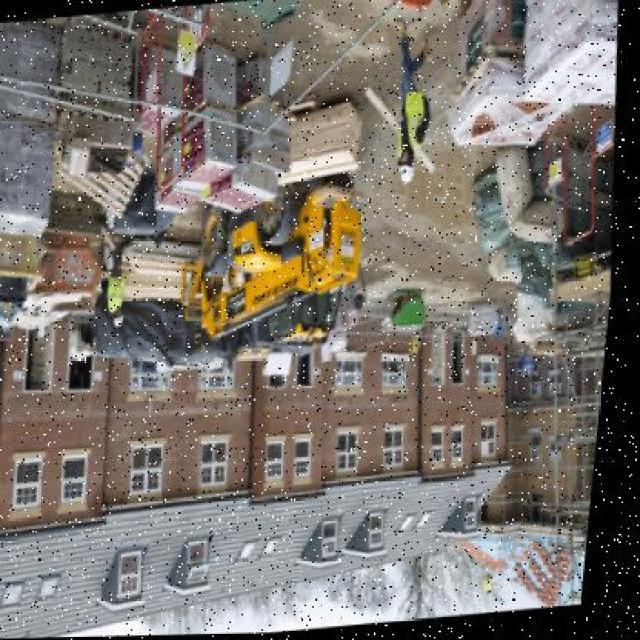helmet: (391, 156, 423, 189), (116, 308, 135, 336)
